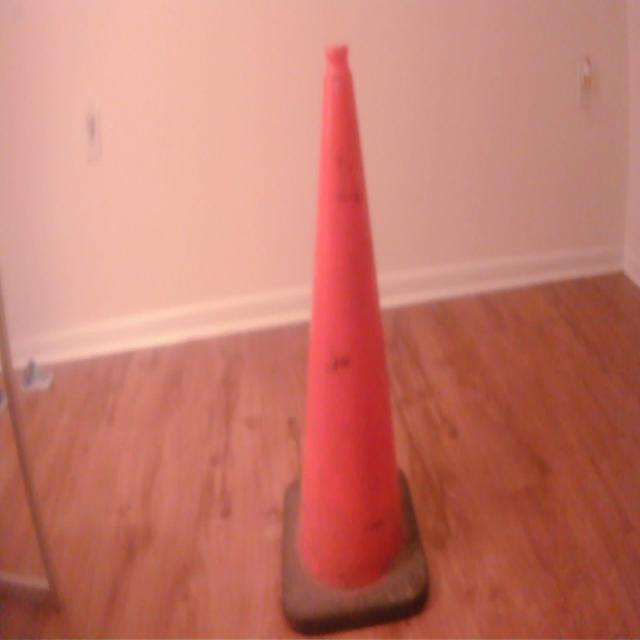traffic cone: (274, 33, 434, 640)
